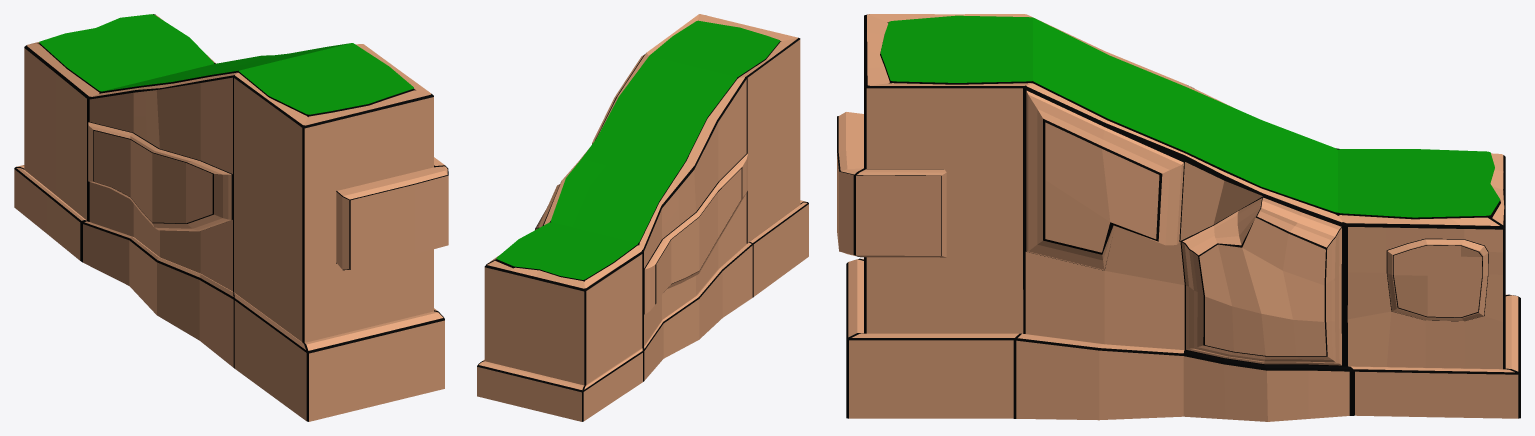
Rendered from CardboardPlatform16.fbx.
3 renders of one model, left to right at view 1: azimuth 30°, elevation 25°; view 2: azimuth 150°, elevation 25°; view 3: azimuth 270°, elevation 25°, orthographic. The views are drawn at different scales.
Parts seen in each view (by area): view 1: Cube.029; view 2: Cube.029; view 3: Cube.029.
Part boxes in pixels (x1=…): Cube.029: x1=14, y1=14, x2=448, y2=421; Cube.029: x1=477, y1=14, x2=808, y2=421; Cube.029: x1=837, y1=14, x2=1520, y2=421.
Bounding box in the file's own units: 1428 × 2368 × 4436.
